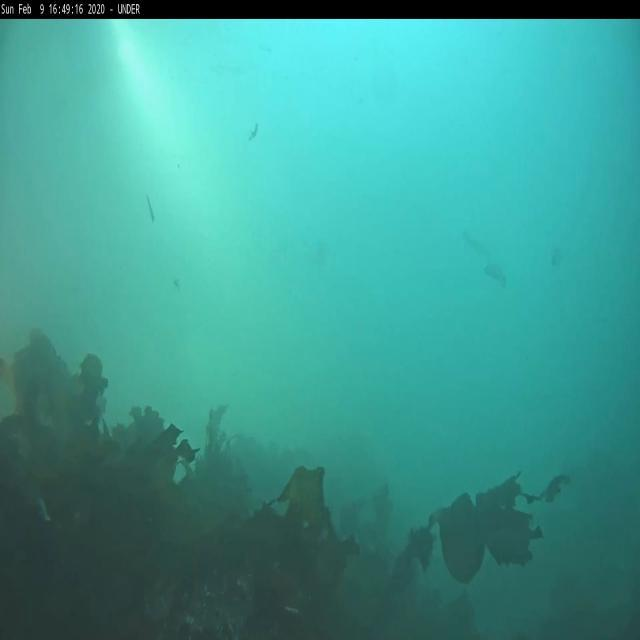fish: (484, 260, 507, 288)
